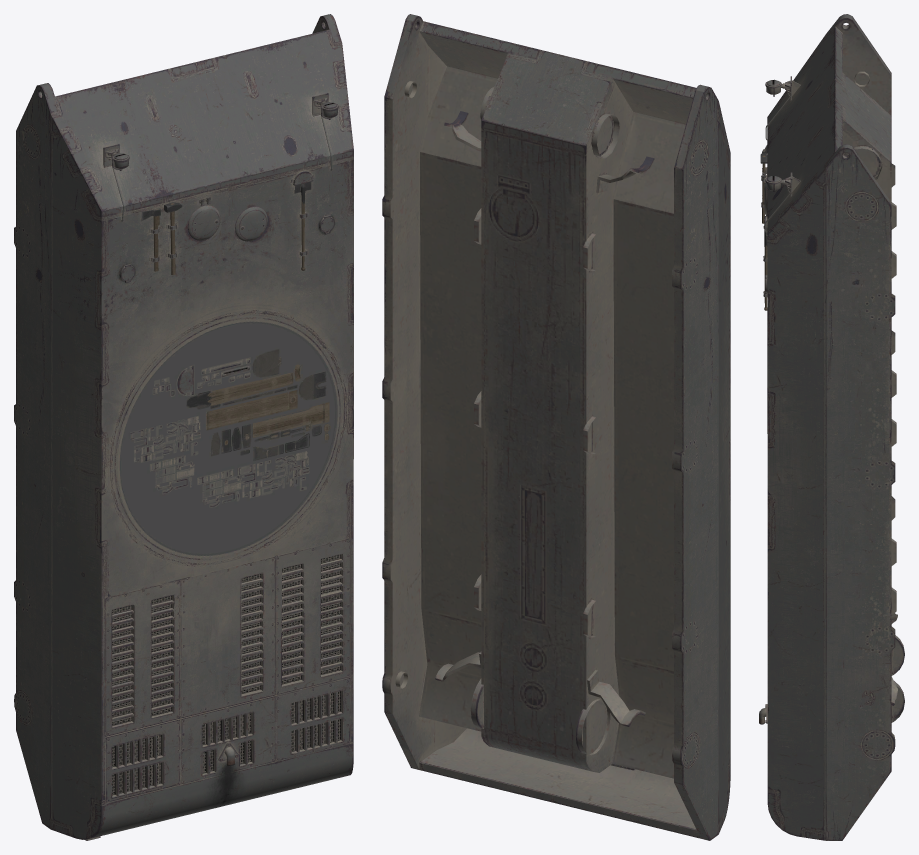
The model's file is Hull.glb.
3 renders of one model, left to right at view 1: azimuth 30°, elevation 25°; view 2: azimuth 150°, elevation 25°; view 3: azimuth 270°, elevation 25°, orthographic. The views are drawn at different scales.
Visible parts, largest first — view 1: set_0_group_0; view 2: set_0_group_0; view 3: set_0_group_0.
Boxes of the visible parts, x1,y1,x2,y2 form: set_0_group_0: (14, 14, 353, 840); set_0_group_0: (382, 14, 730, 840); set_0_group_0: (759, 14, 904, 840).
Bounding box in the file's own units: 3.46 × 8.42 × 1.59.
1 material, 1 textured.
